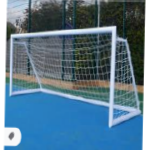goals: (7, 24, 142, 129)
